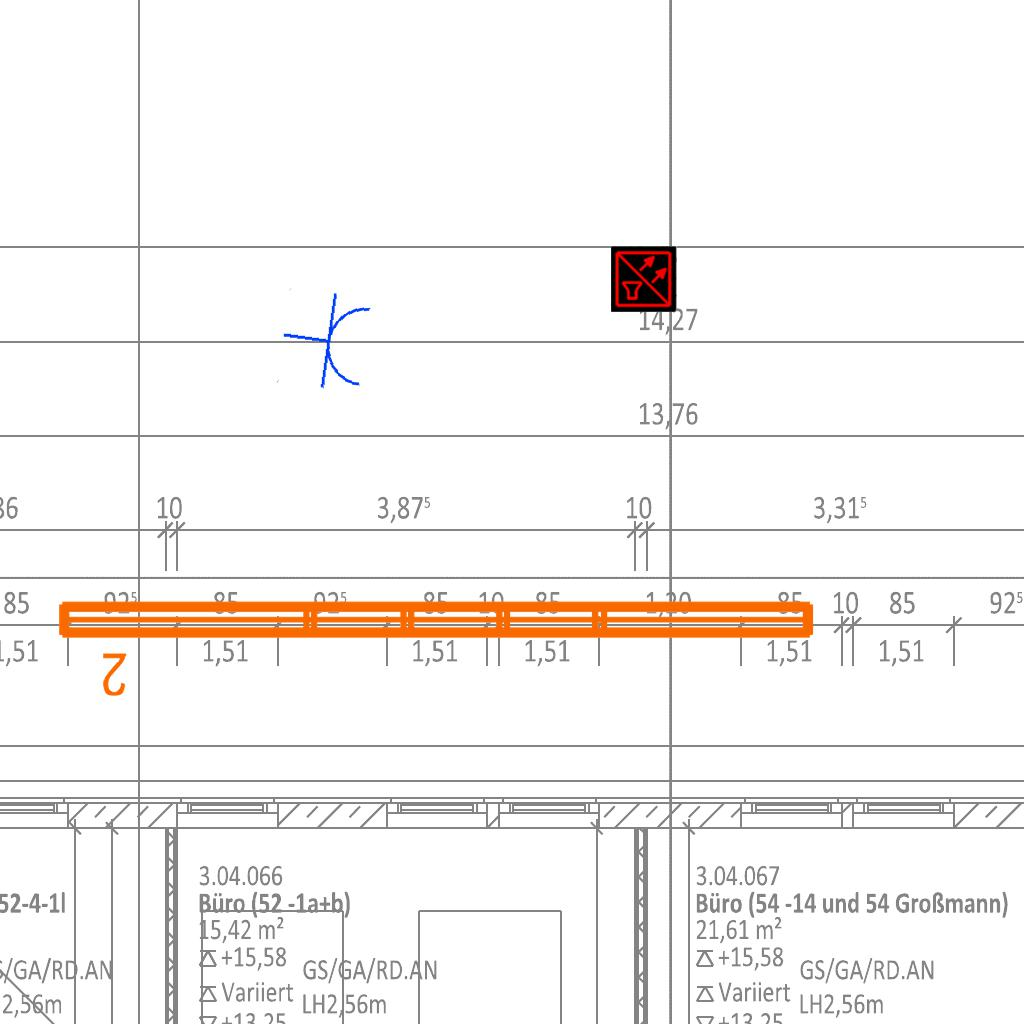Ambulanz_Pendelleuchte_LED: (50, 589, 824, 701)
OKW_Multisensormelder_(Kombination_optischer_Rauch-Kahlenmonoxid_Waerme-Melder): (611, 246, 677, 312)
Schukosteckdose_einfach: (275, 285, 377, 398)
